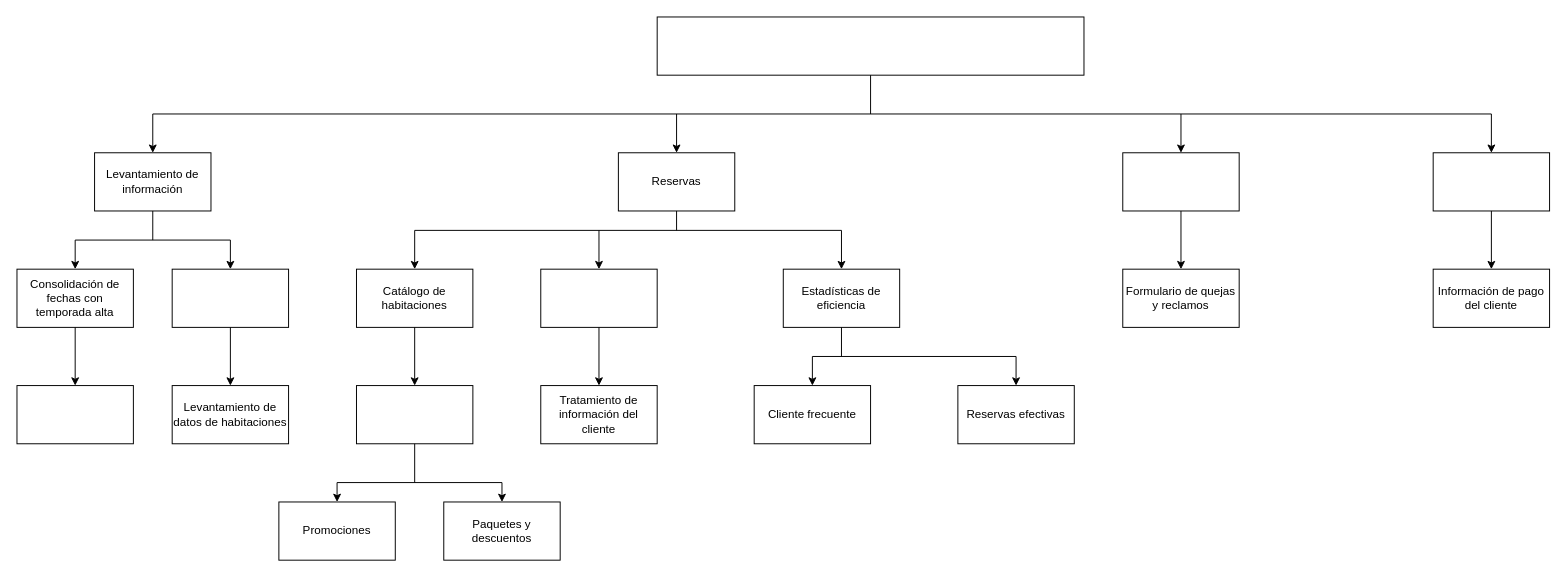
Image size: 1567x577. Some labels were removed from this diagram. The centre of each missing label's shape, as x and y in pixels:
"ALOHATE" belongs at point 870,45.
"Clasificación de las habitaciones" belongs at point 230,297.
"Filtrado de busqueda" belongs at point 414,414.
"Modelo predictivo de demanda" belongs at point 74,414.
"Pagos" belongs at point 1491,181.
"PQR" belongs at point 1180,181.
"Registro de huéspedes" belongs at point 598,297.
